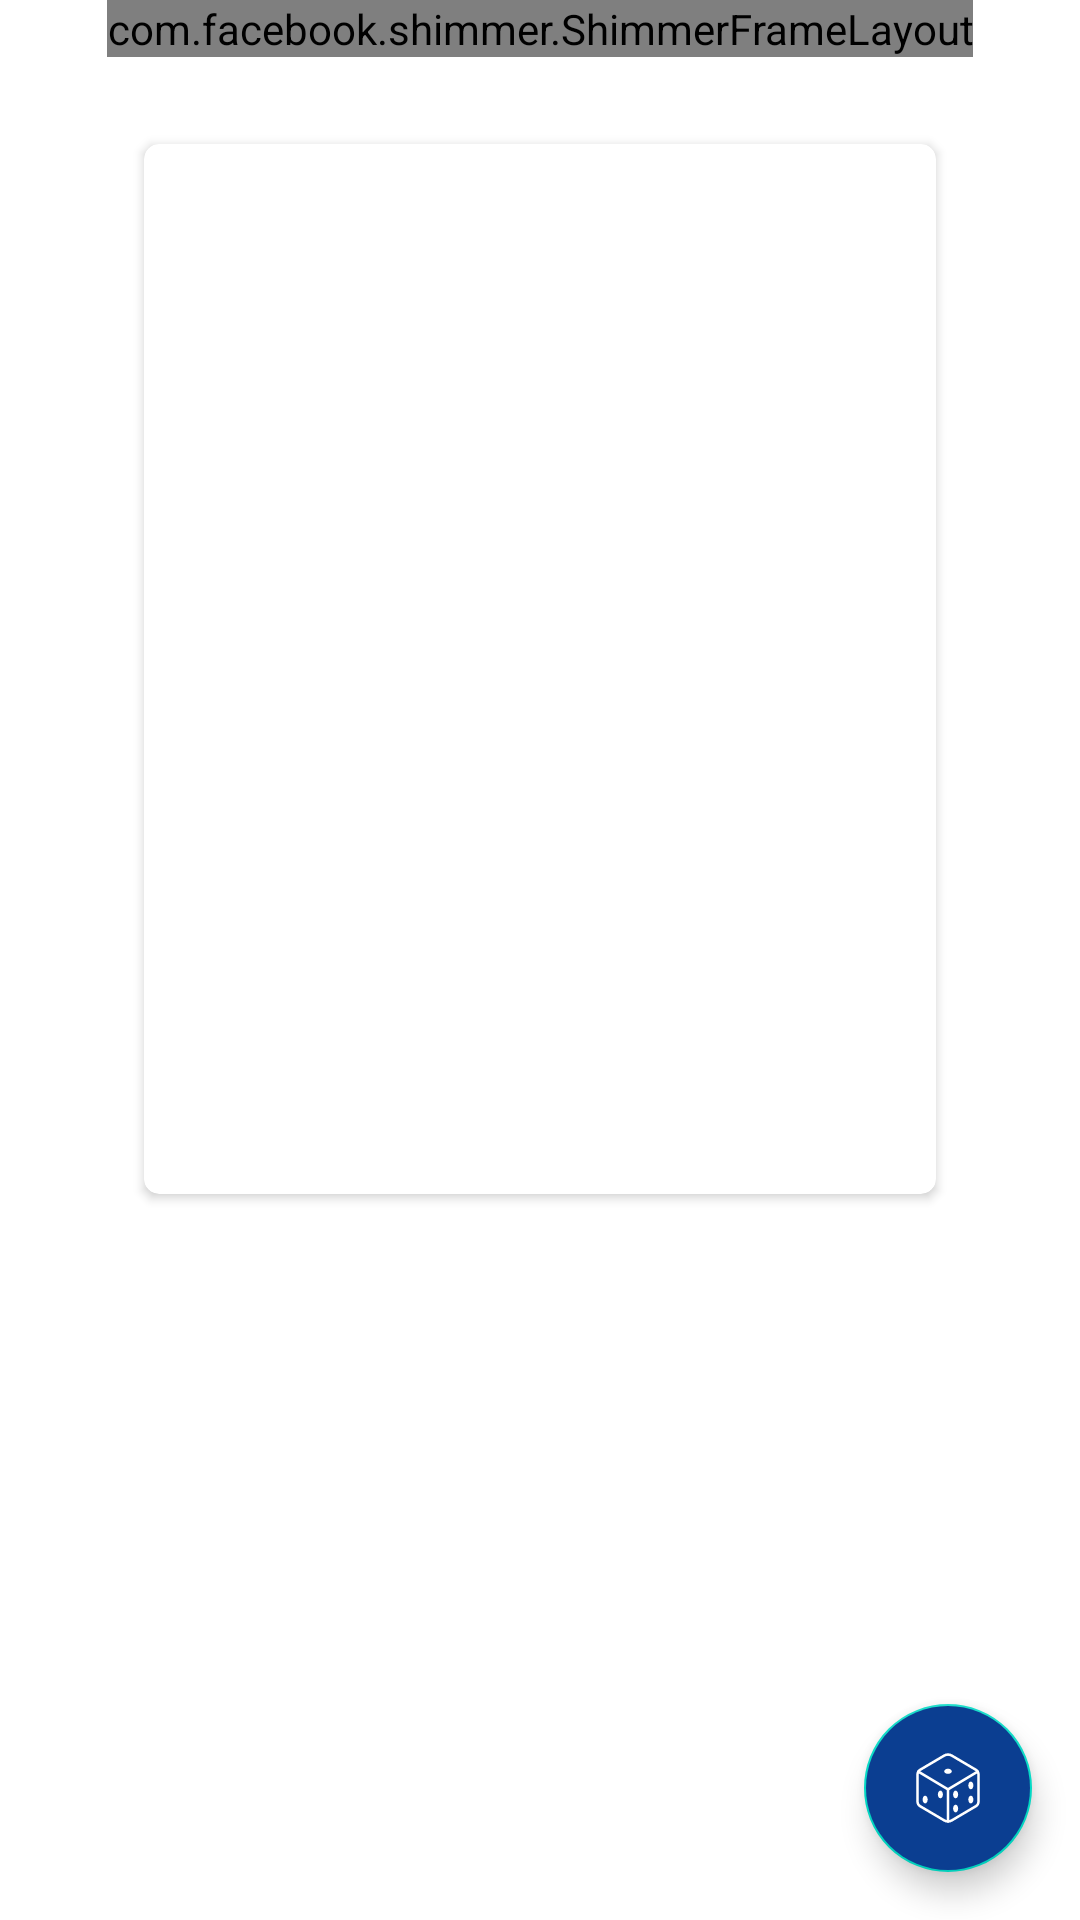

Icons on this 1080px x 1920px Android screen, each with its box as (x1, y1, x2, y2):
dice: (864, 1704, 1032, 1872)
